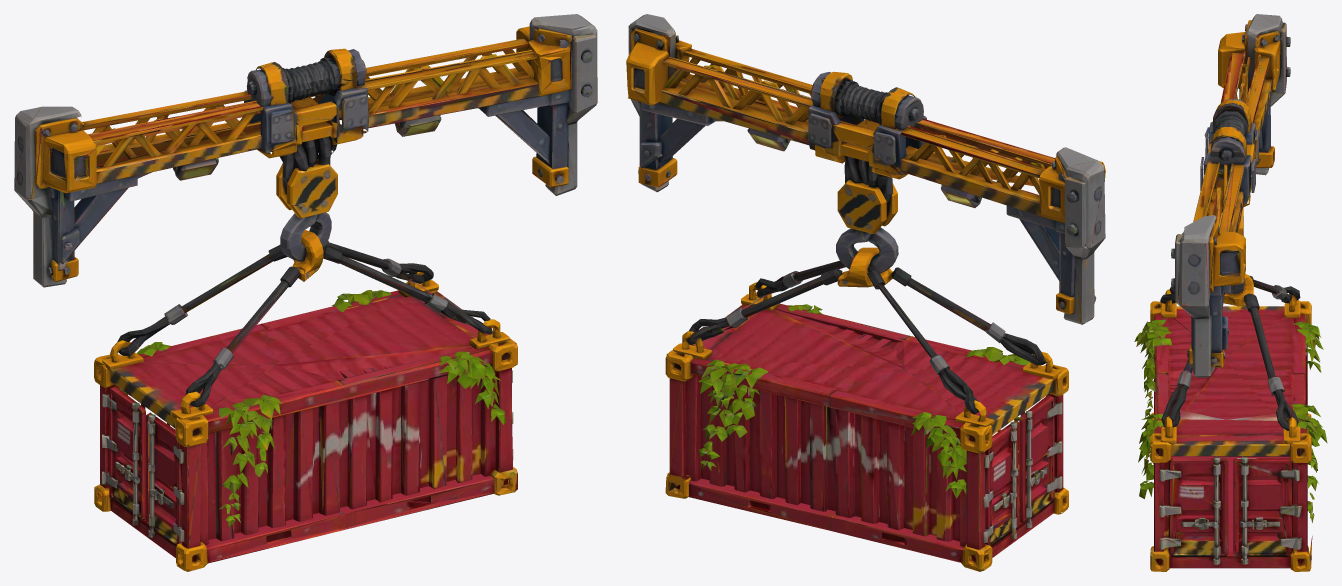
Rendered from suspended_container.glb.
3 views of the same model, side by side, from view 1: azimuth 30°, elevation 25°; view 2: azimuth 150°, elevation 25°; view 3: azimuth 270°, elevation 25° (orthographic). The views are drawn at different scales.
Size of what is drawn, in the model's own units: 1.26 by 1 by 0.4541.
Materials: 1 (1 with a texture image).
